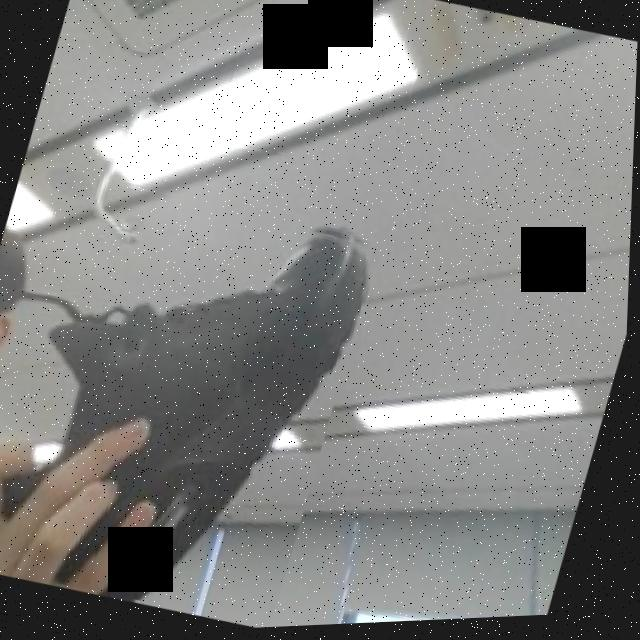shoe: (0, 165, 385, 640)
